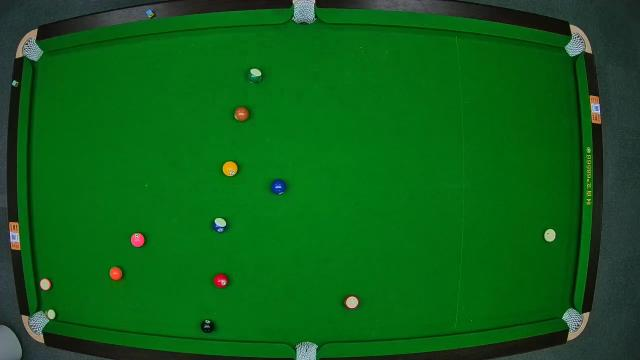bag1: (20, 40, 40, 61)
bag2: (292, 1, 316, 26)
bag3: (564, 32, 588, 56)
bag4: (26, 311, 52, 333)
bag5: (295, 340, 319, 360)
bag6: (562, 308, 584, 330)
ball0: (544, 228, 556, 243)
ball1: (222, 160, 238, 178)
ball10: (211, 218, 227, 234)
ball11: (344, 294, 360, 310)
ball12: (39, 278, 53, 292)
ball14: (245, 67, 263, 85)
ball15: (44, 308, 58, 322)
ball2: (270, 178, 288, 195)
ball3: (214, 272, 228, 288)
ball4: (130, 232, 146, 248)
ball5: (109, 267, 123, 281)
ball7: (233, 105, 249, 122)
ball8: (200, 318, 214, 334)
